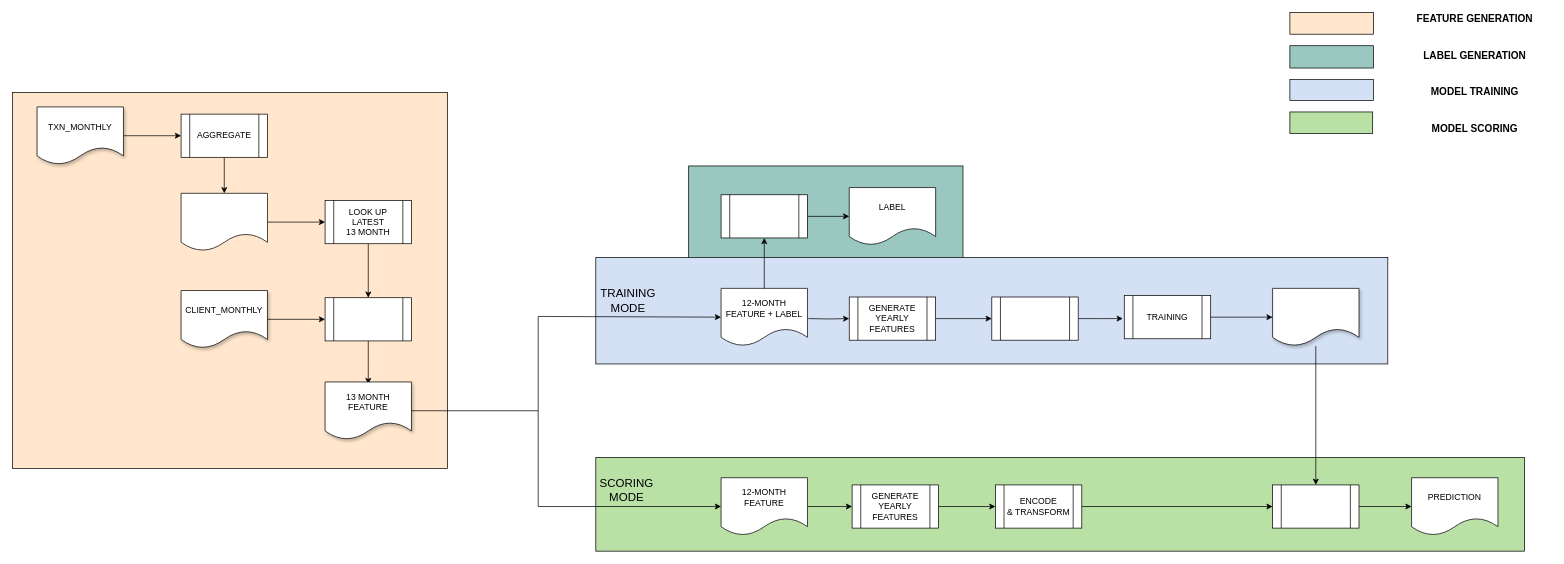
Some shapes in this 1564 by 564 pixel diagram are drawn without their labels. Here are the shapes that lost their labels. From the top down, the centre of each, then its label:
At pixel 223 222: "UPDATED SUMMARY".
At pixel 763 216: "SEPERATE".
At pixel 367 319: "JOIN".
At pixel 1034 318: "ENCODE/SPLIT /TRANSFORM".
At pixel 1316 318: "MODEL".
At pixel 1315 506: "SCORING".
